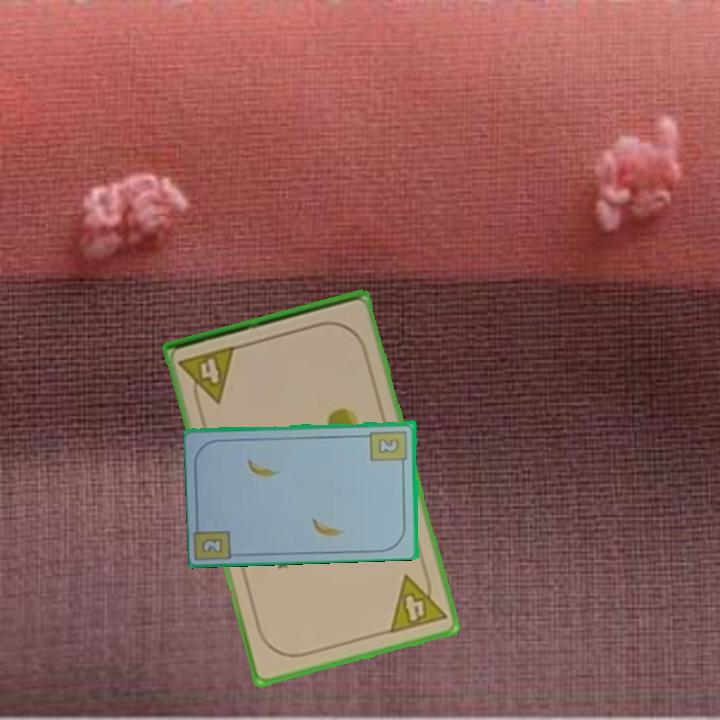2b: (367, 427, 410, 469), (198, 535, 226, 556)
4p: (385, 566, 450, 637), (175, 342, 239, 410)
